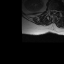CCS_normal: (53, 7, 55, 16)
LFS_stenosis: (57, 8, 59, 14)
LLS_stenosis: (55, 7, 57, 15)
RFS_normal: (50, 7, 51, 13)
RLS_normal: (51, 7, 53, 14)
